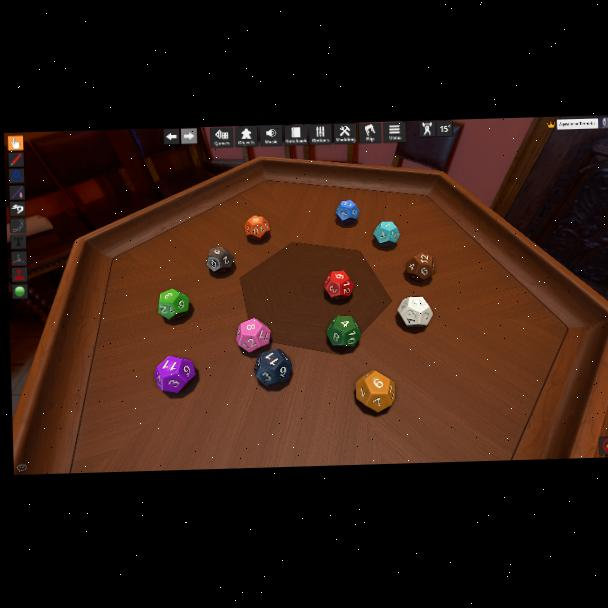d12: (354, 370, 396, 413), (154, 356, 196, 395), (253, 349, 293, 387), (236, 318, 271, 353), (397, 295, 433, 329), (158, 288, 191, 321), (325, 315, 359, 347), (406, 252, 437, 283), (323, 271, 353, 300), (205, 246, 232, 275), (372, 220, 399, 245), (244, 214, 270, 239), (335, 200, 358, 224)
